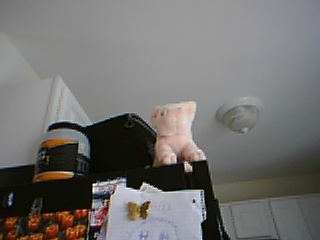piggy: (150, 100, 208, 166)
